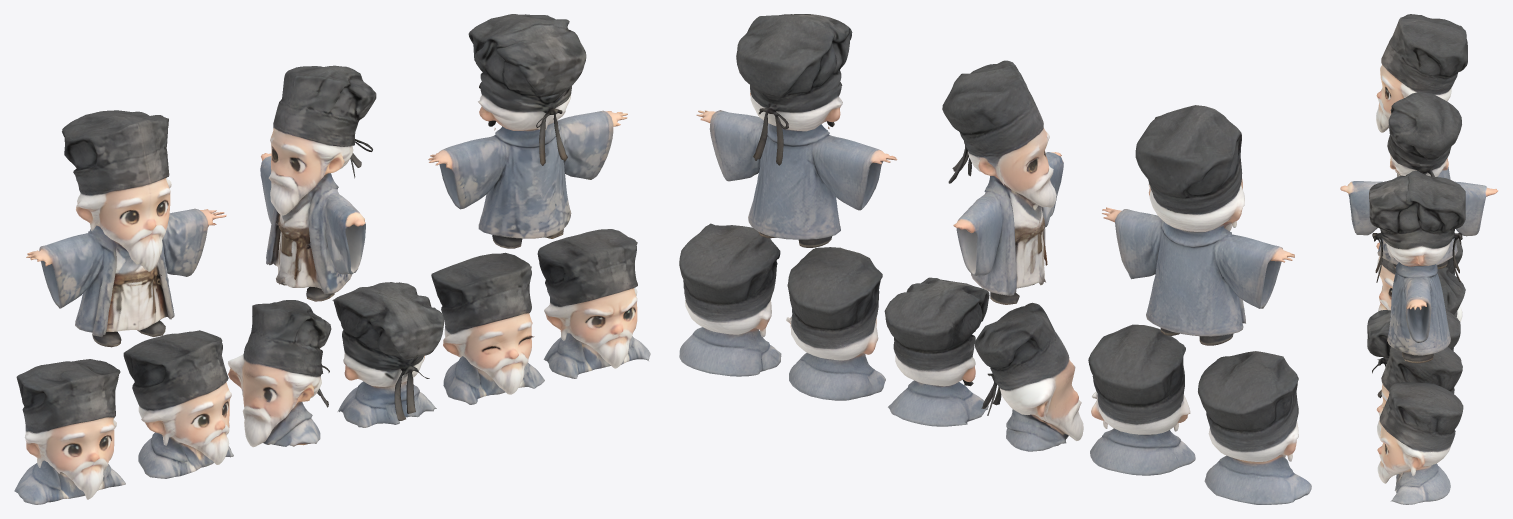
Rendered from base_basic_shaded.glb.
The picture shows the model from 3 angles, left to right: view 1: azimuth 30°, elevation 25°; view 2: azimuth 150°, elevation 25°; view 3: azimuth 270°, elevation 25°; orthographic projection. The views are drawn at different scales.
Parts seen in each view (by area): view 1: model; view 2: model; view 3: model.
Boxes of the visible parts, x1,y1,x2,y2 form: model: (14, 14, 650, 504); model: (679, 14, 1311, 504); model: (1340, 14, 1498, 504).
Size of the model in its own units: 1.89 by 1.04 by 0.5231.
Materials: 1 (1 with a texture image).
